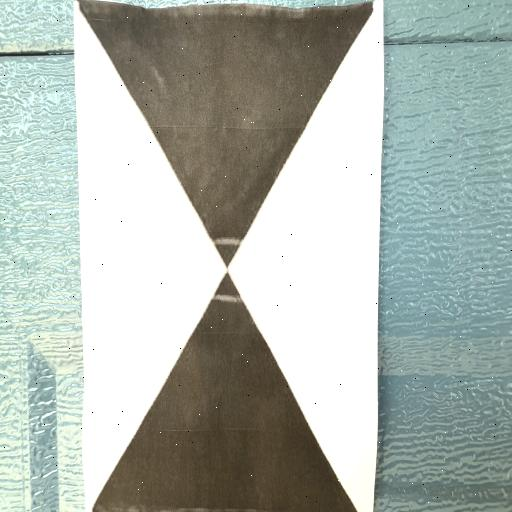target: (80, 2, 376, 511)
